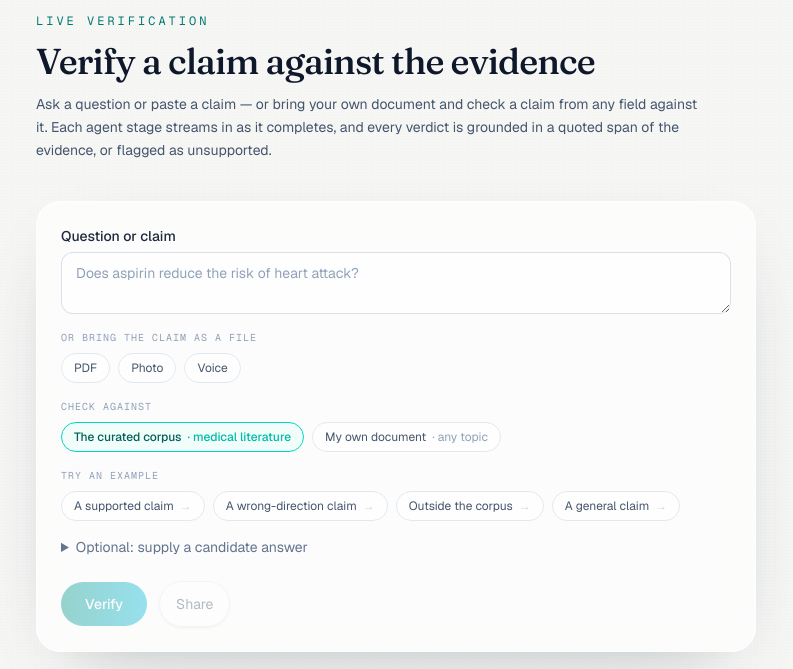
it: shows a Cancel button while streaming and returns to idle when clicked
In the text box labelled "Question or claim": (396, 283) top-left (61, 252), bottom-right (731, 314), type "Does aspirin help the heart?"
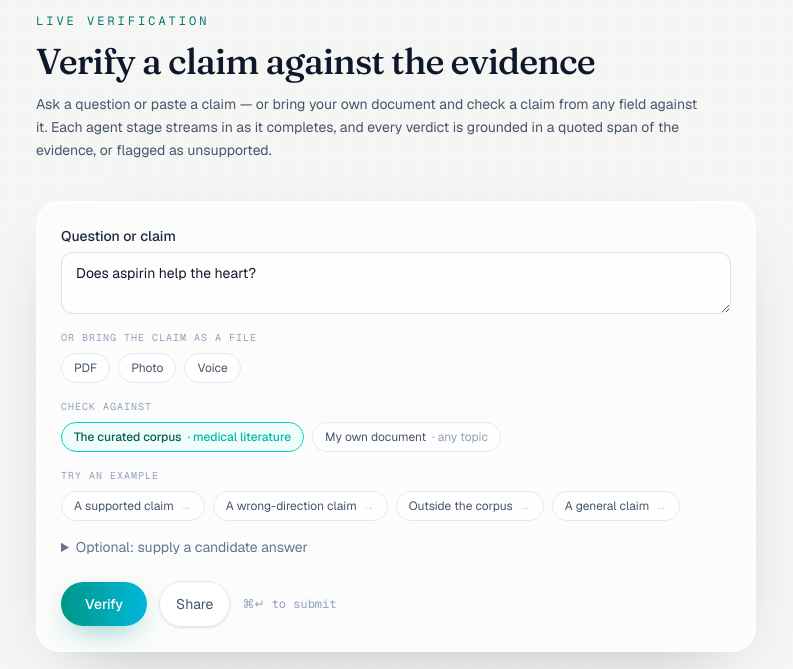
Click the button "Verify": click(104, 604) top-left (61, 582), bottom-right (147, 626)
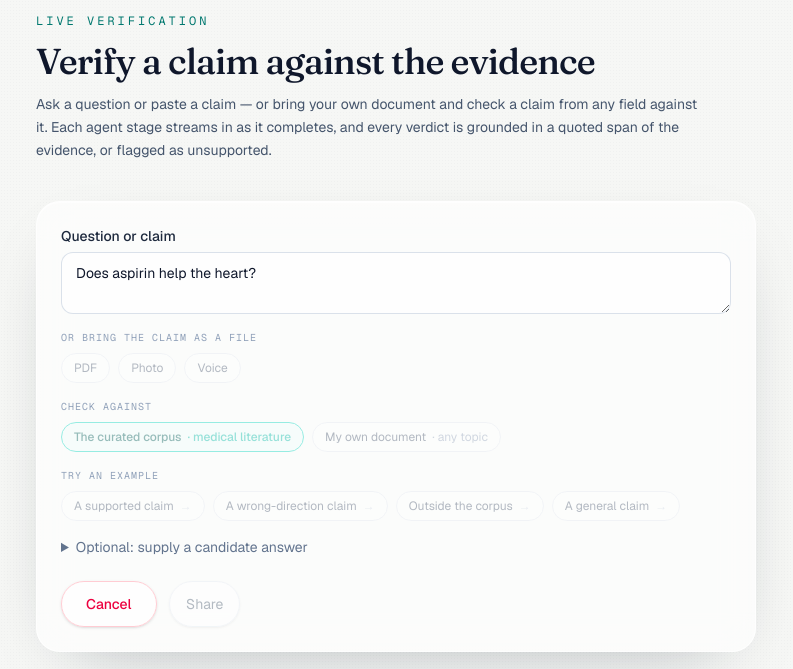
Click the button "Cancel": click(109, 604) top-left (61, 581), bottom-right (157, 627)
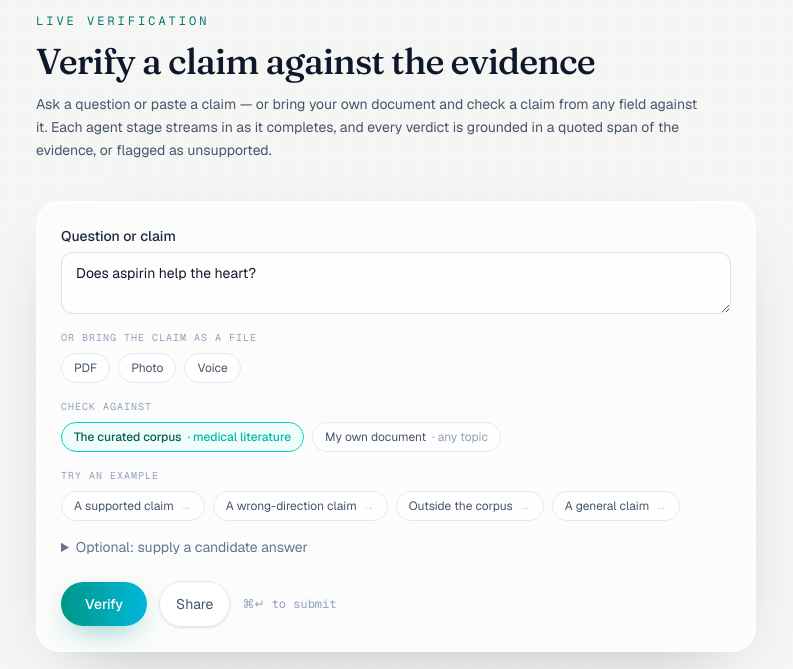
Now the button "Verify" is shown, box top-left (61, 582), bottom-right (147, 626)
Now the button "Cancel" is gone
